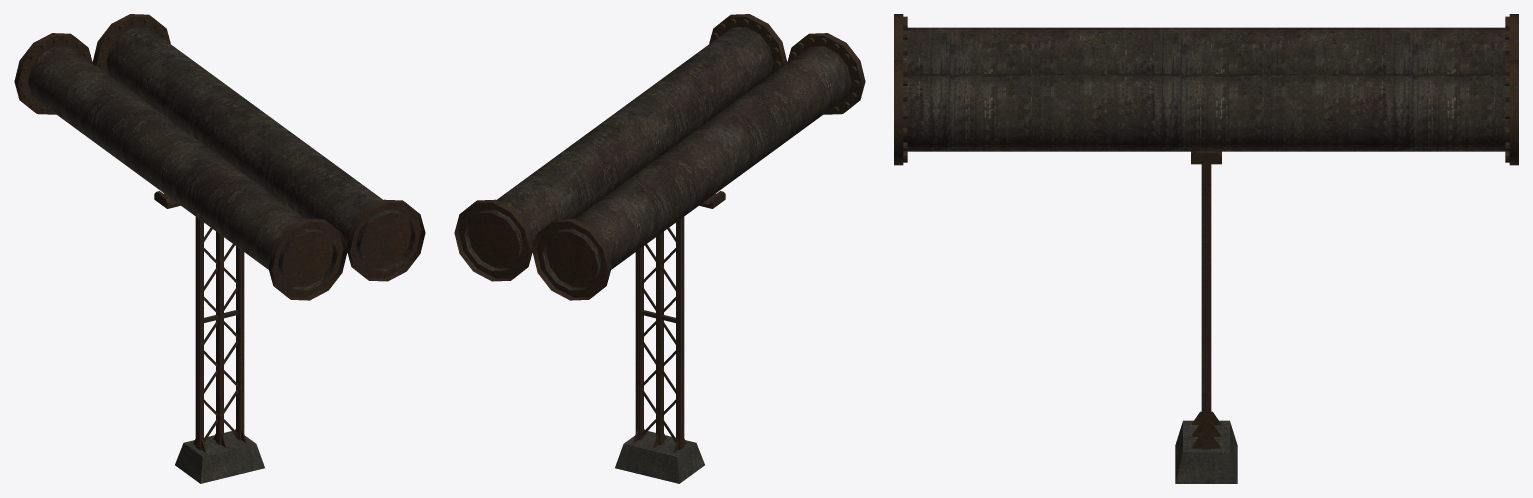
Rendered from pipe_cx_5.obj.
The picture shows the model from 3 angles, left to right: view 1: azimuth 30°, elevation 25°; view 2: azimuth 150°, elevation 25°; view 3: azimuth 270°, elevation 25°; orthographic projection. The views are drawn at different scales.
Parts seen in each view (by area): view 1: pipe_cx_5; view 2: pipe_cx_5; view 3: pipe_cx_5.
Part boxes in pixels (box(x1,y1,x2,y2)): pipe_cx_5: box(14, 14, 425, 483); pipe_cx_5: box(454, 14, 865, 483); pipe_cx_5: box(894, 14, 1518, 483).
Size of the model in its own units: 1.38 by 2.99 by 4.
